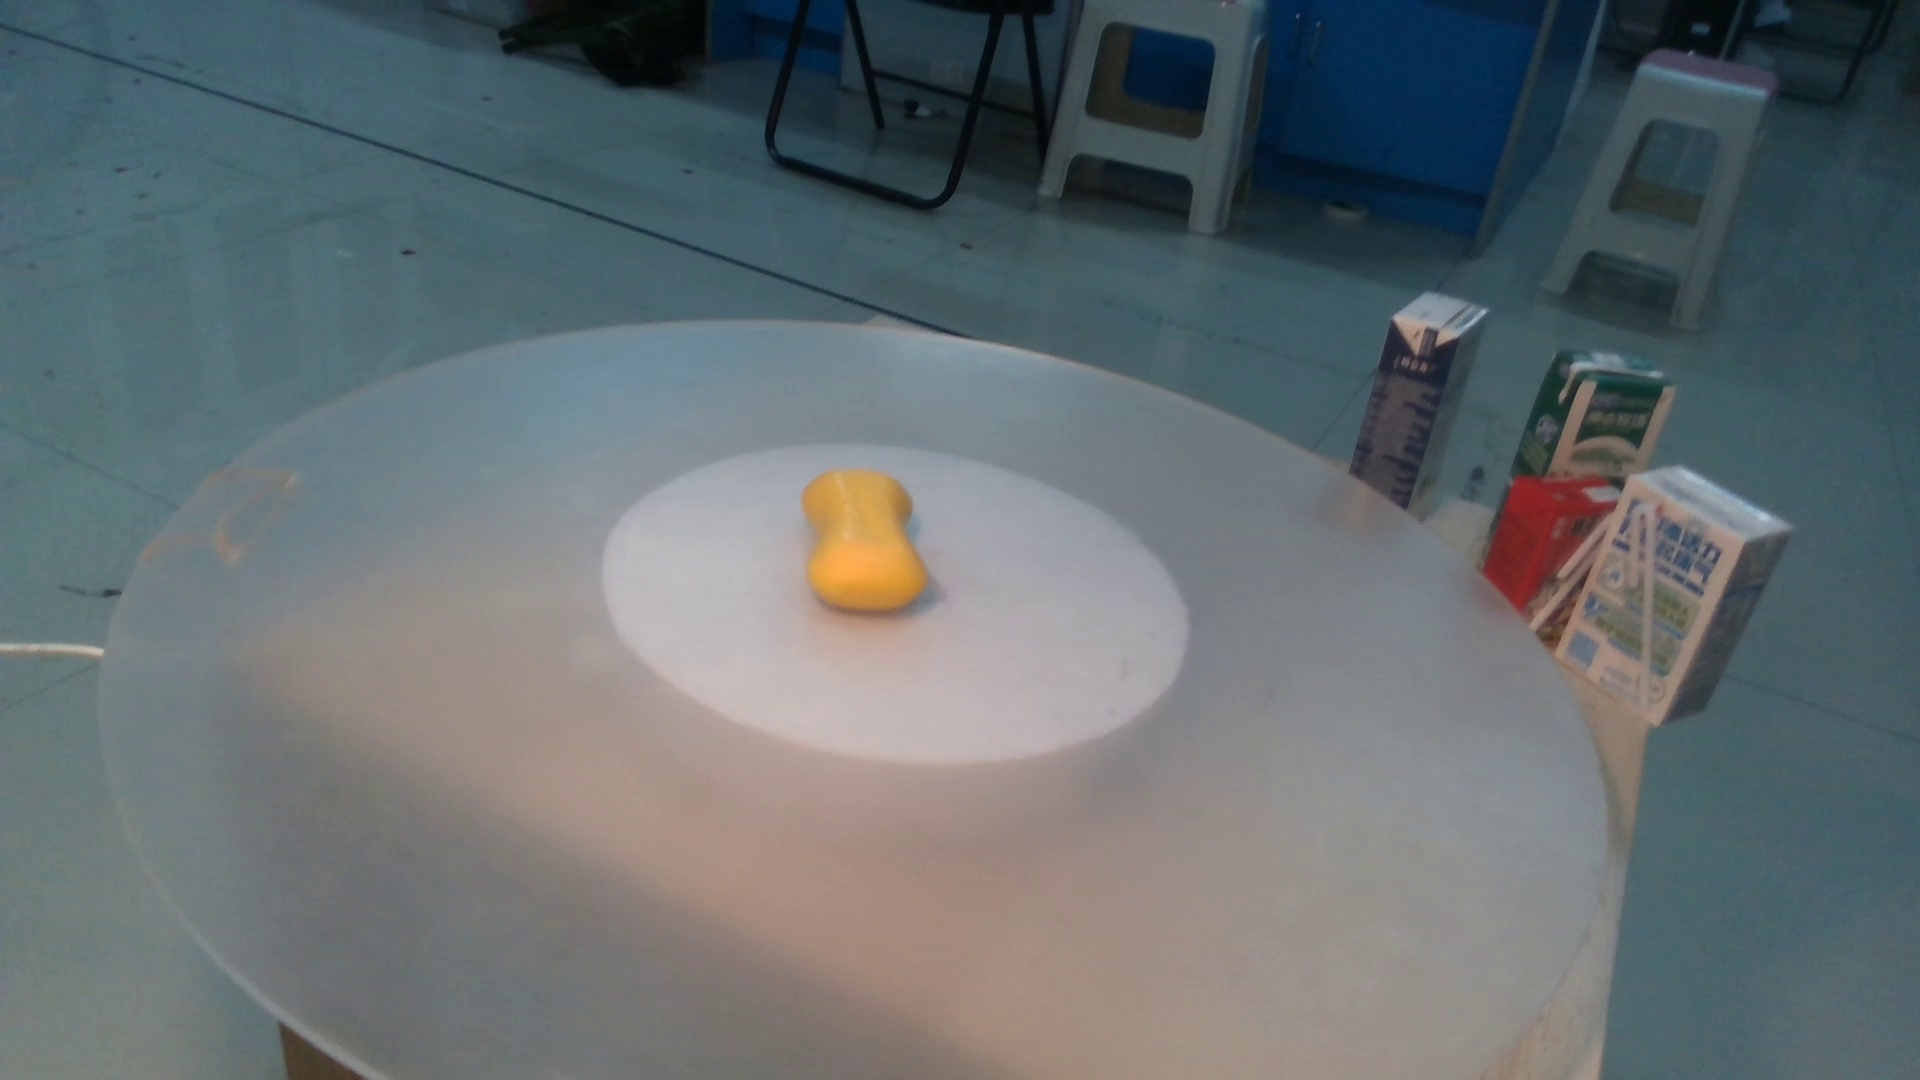CA003_1: (786, 450, 948, 632)
